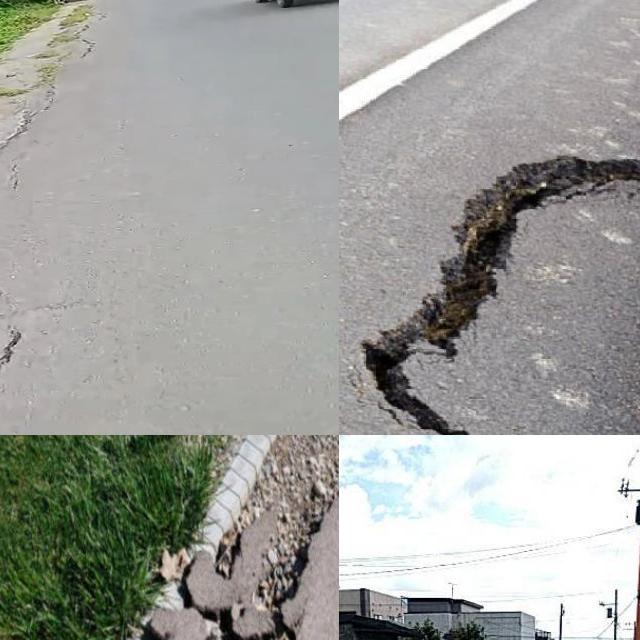Pinggir: (339, 151, 640, 435), (75, 435, 339, 640), (0, 5, 124, 178)
